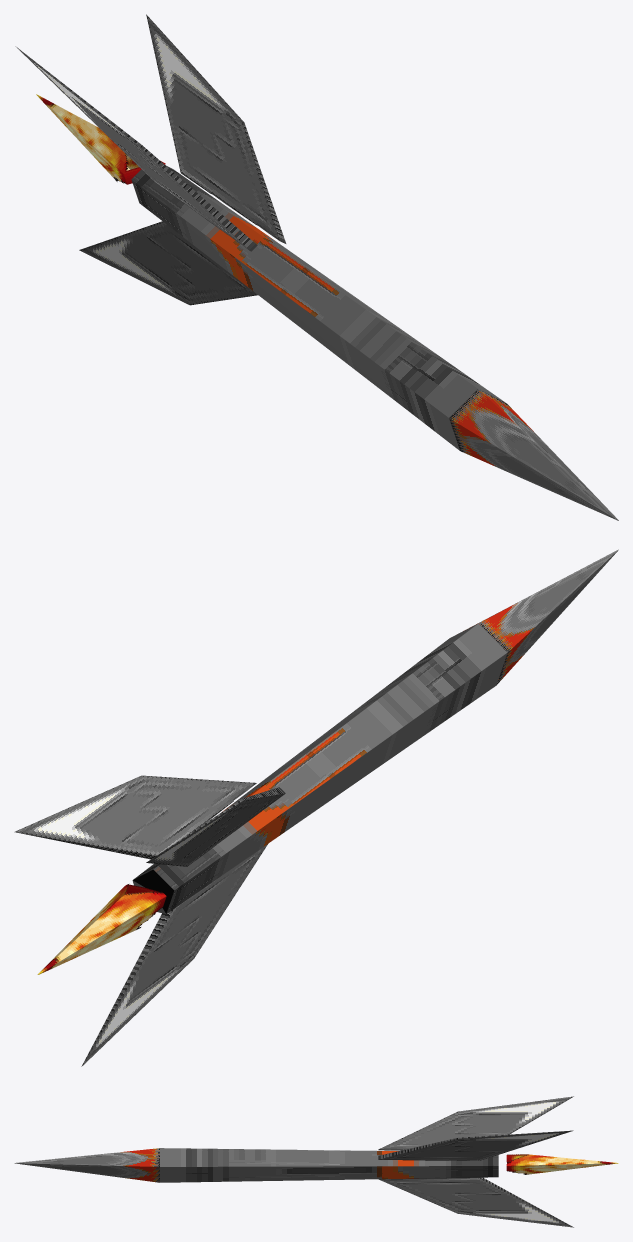
File: bradmis1.obj
3 views of the same model, one above another, from view 1: azimuth 30°, elevation 25°; view 2: azimuth 150°, elevation 25°; view 3: azimuth 270°, elevation 25° (orthographic). The views are drawn at different scales.
Bounding box in the file's own units: 0.7546 × 1.21 × 5.76.
7 materials, 6 textured.
